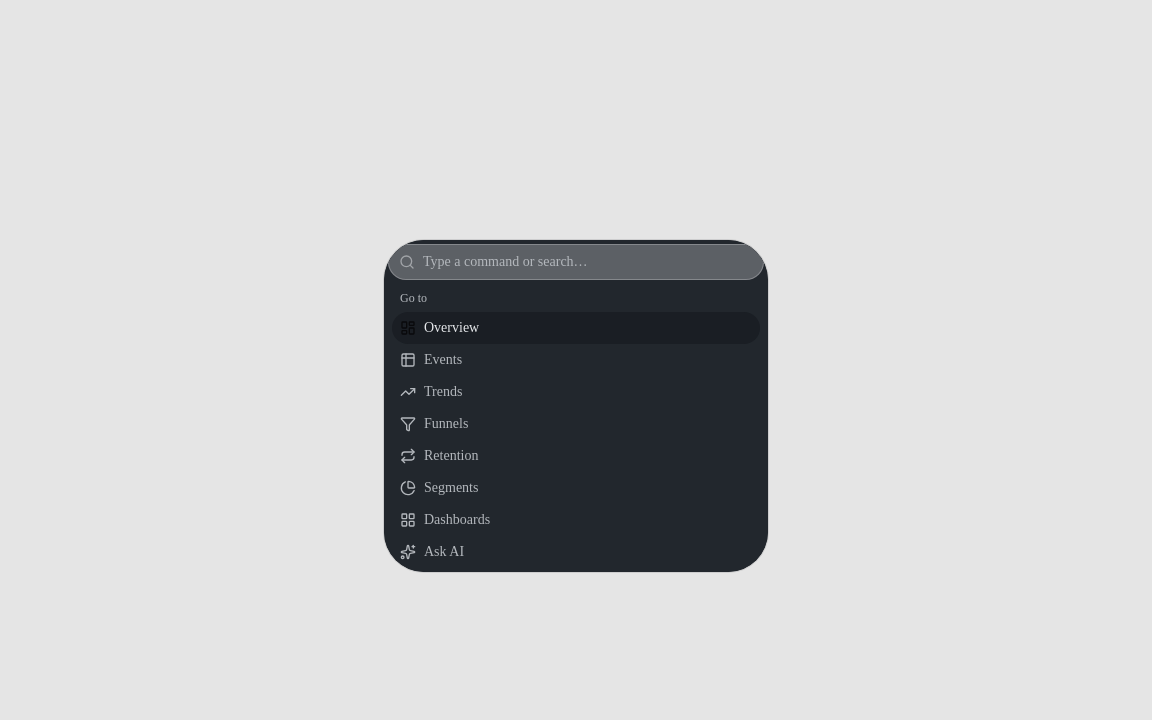
Scenario: CommandPalette › filters the options as the query is typed
Type "reten" into the dropdown with placeholder "Type a command or search…" at coordinates (588, 262), box [423,252,753,272]
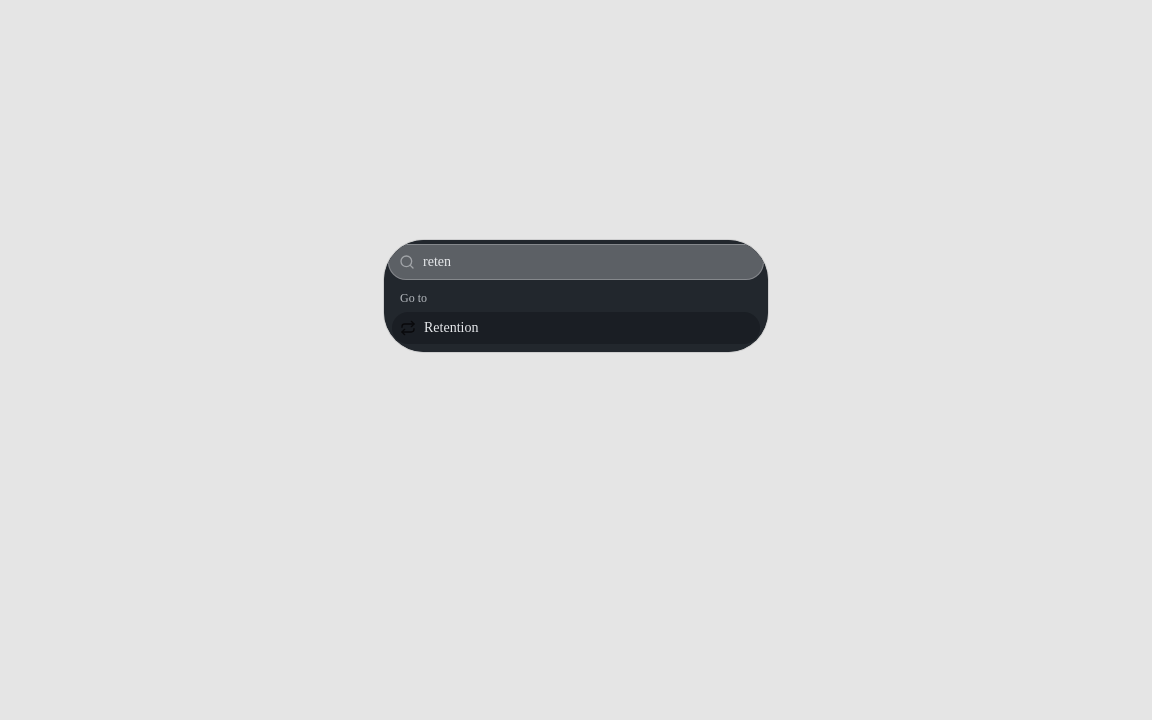
Check: the option "Retention" is shown, box [392,312,760,344]
Check: the option "Trends" is gone
